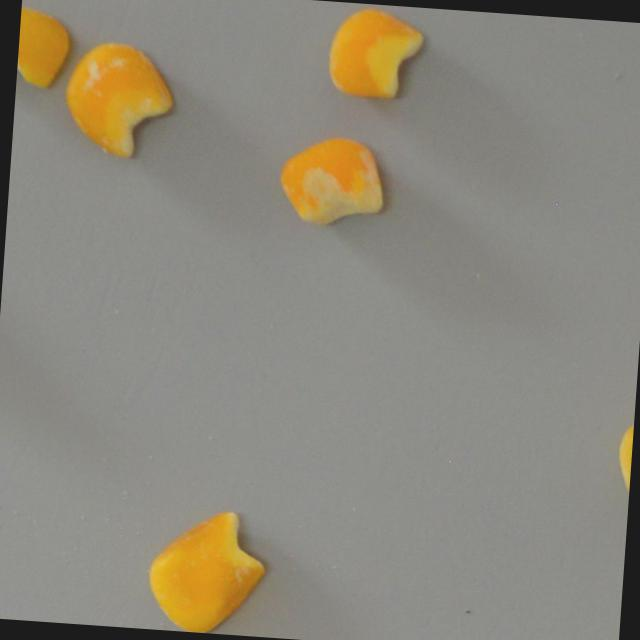no_canjicado: (145, 506, 268, 637), (324, 5, 425, 101), (614, 403, 635, 512)
pelicula: (58, 36, 176, 161), (275, 132, 390, 231), (15, 6, 70, 92)
